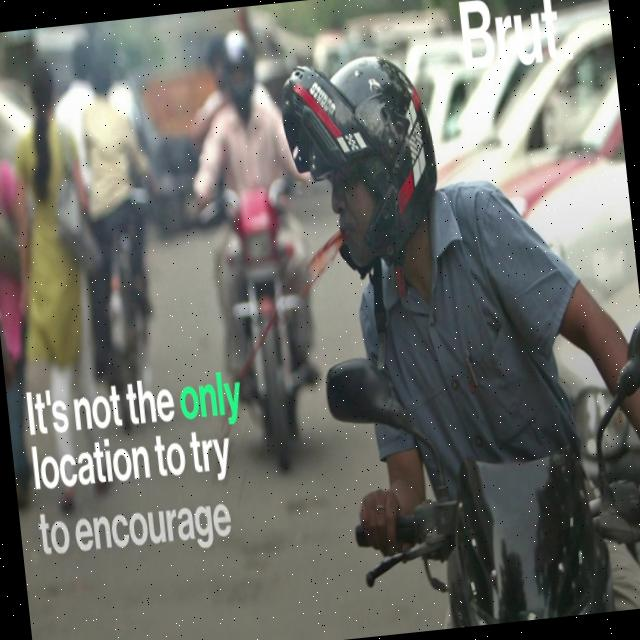spit: (237, 200, 368, 384)
